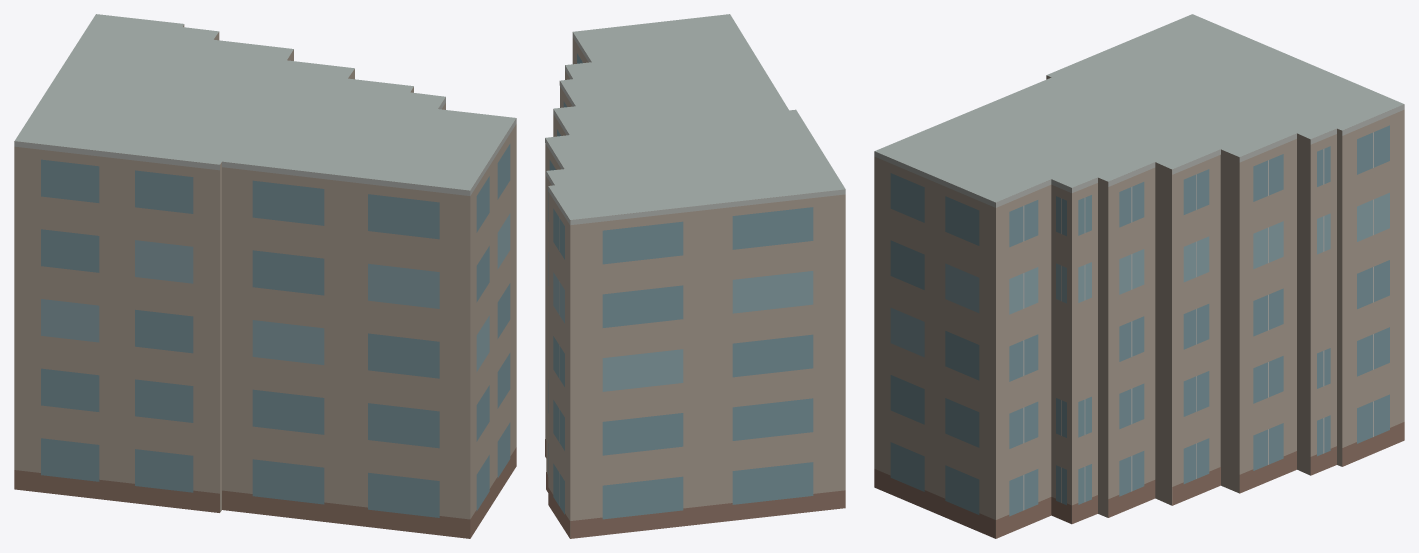
File: survey-upis-33044631.glb
3 views of the same model, side by side, from view 1: azimuth 30°, elevation 25°; view 2: azimuth 150°, elevation 25°; view 3: azimuth 270°, elevation 25° (orthographic). The views are drawn at different scales.
Visible parts, largest first — view 1: survey-upis-33044631.tmp; view 2: survey-upis-33044631.tmp; view 3: survey-upis-33044631.tmp.
Boxes of the visible parts, <box> form: survey-upis-33044631.tmp: <box>14,14,516,538</box>; survey-upis-33044631.tmp: <box>545,14,845,538</box>; survey-upis-33044631.tmp: <box>874,14,1404,538</box>.
Bounding box in the file's own units: 18.35 × 15.25 × 21.79.
